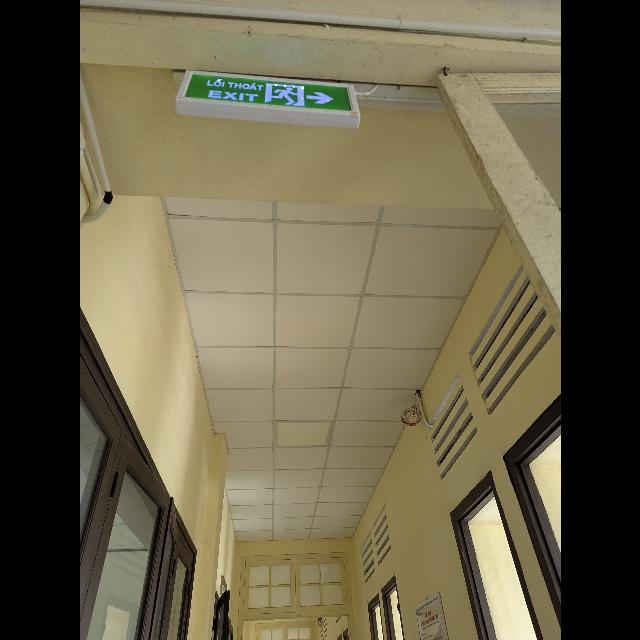exit: (186, 74, 352, 112)
